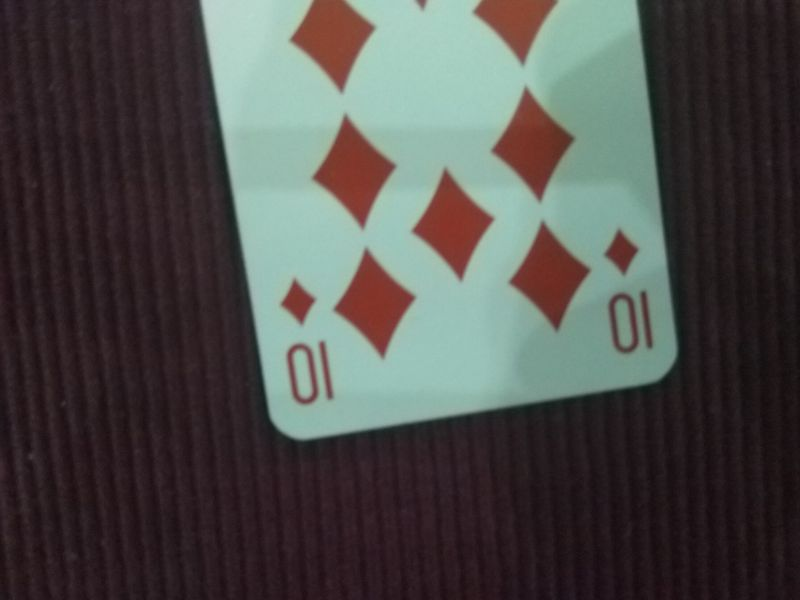Td: (273, 272, 339, 408), (597, 223, 663, 359)
